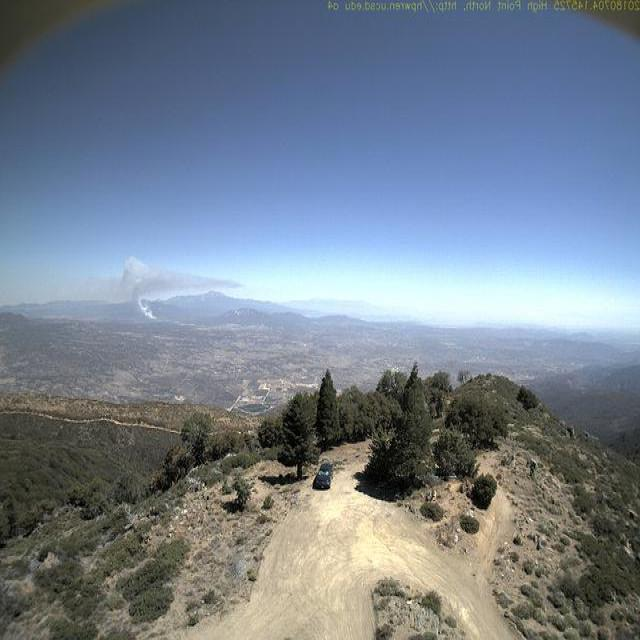Smoke: (103, 254, 247, 322)
